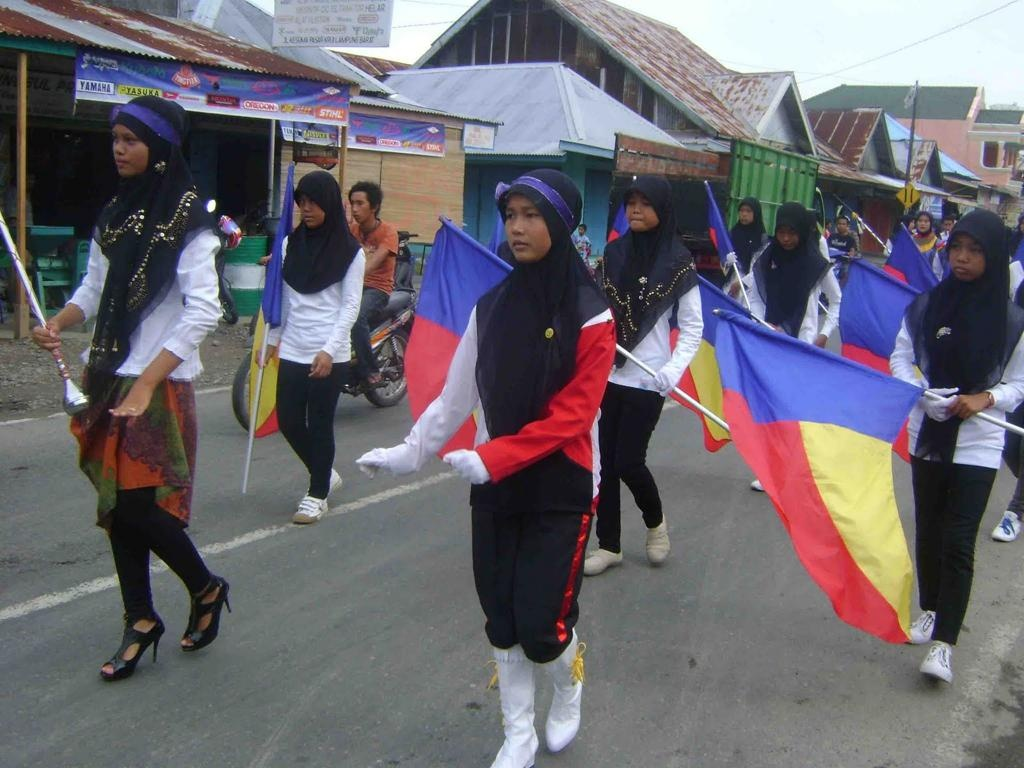human_face: (502, 192, 552, 262), (110, 121, 150, 176), (948, 230, 986, 282), (624, 187, 658, 231), (296, 188, 324, 226), (348, 192, 370, 224), (776, 223, 798, 251), (738, 202, 752, 224), (916, 214, 930, 232), (840, 244, 854, 262), (836, 218, 846, 232), (943, 219, 953, 233), (907, 218, 915, 231), (826, 221, 832, 227), (578, 225, 582, 233), (935, 232, 939, 237)
